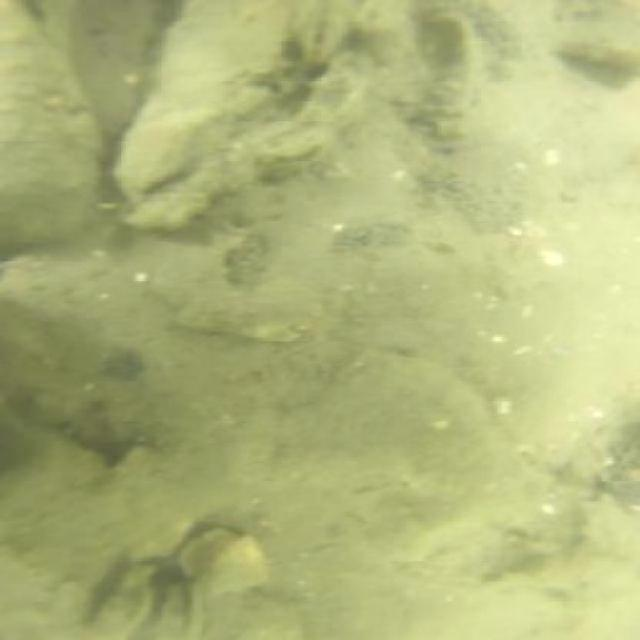Oyster-Closed: (0, 0, 97, 249), (182, 529, 262, 589)
Oyster-Open: (119, 0, 306, 222), (81, 565, 208, 639), (257, 129, 322, 181), (304, 6, 344, 60)
